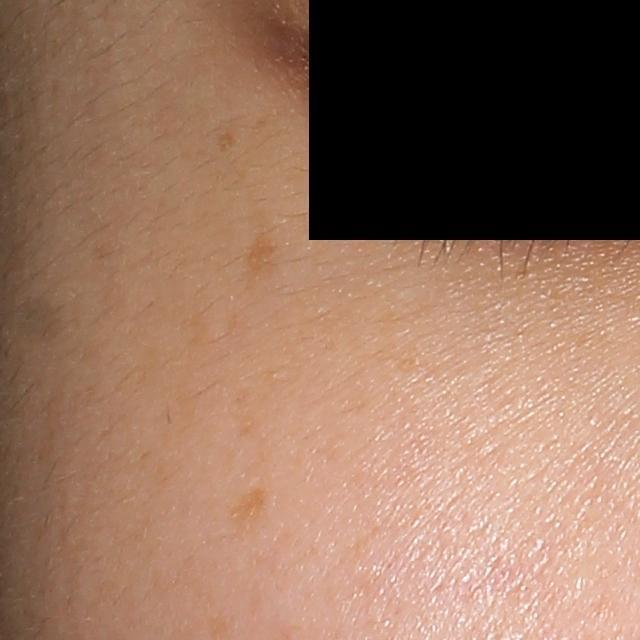melasma: (238, 224, 280, 278), (233, 486, 270, 534), (212, 126, 241, 154)
